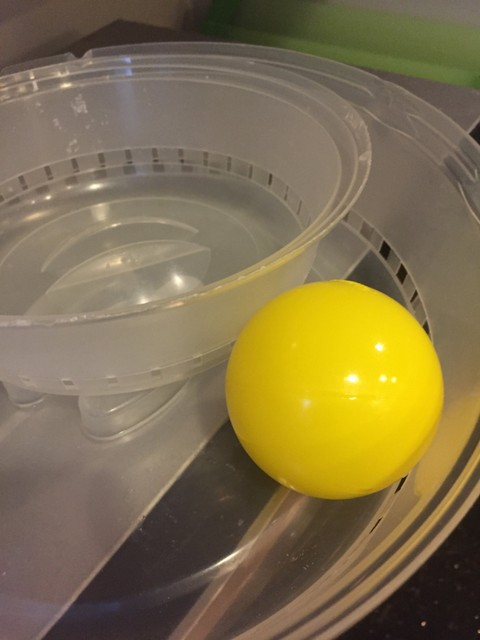ball: (226, 279, 447, 502)
